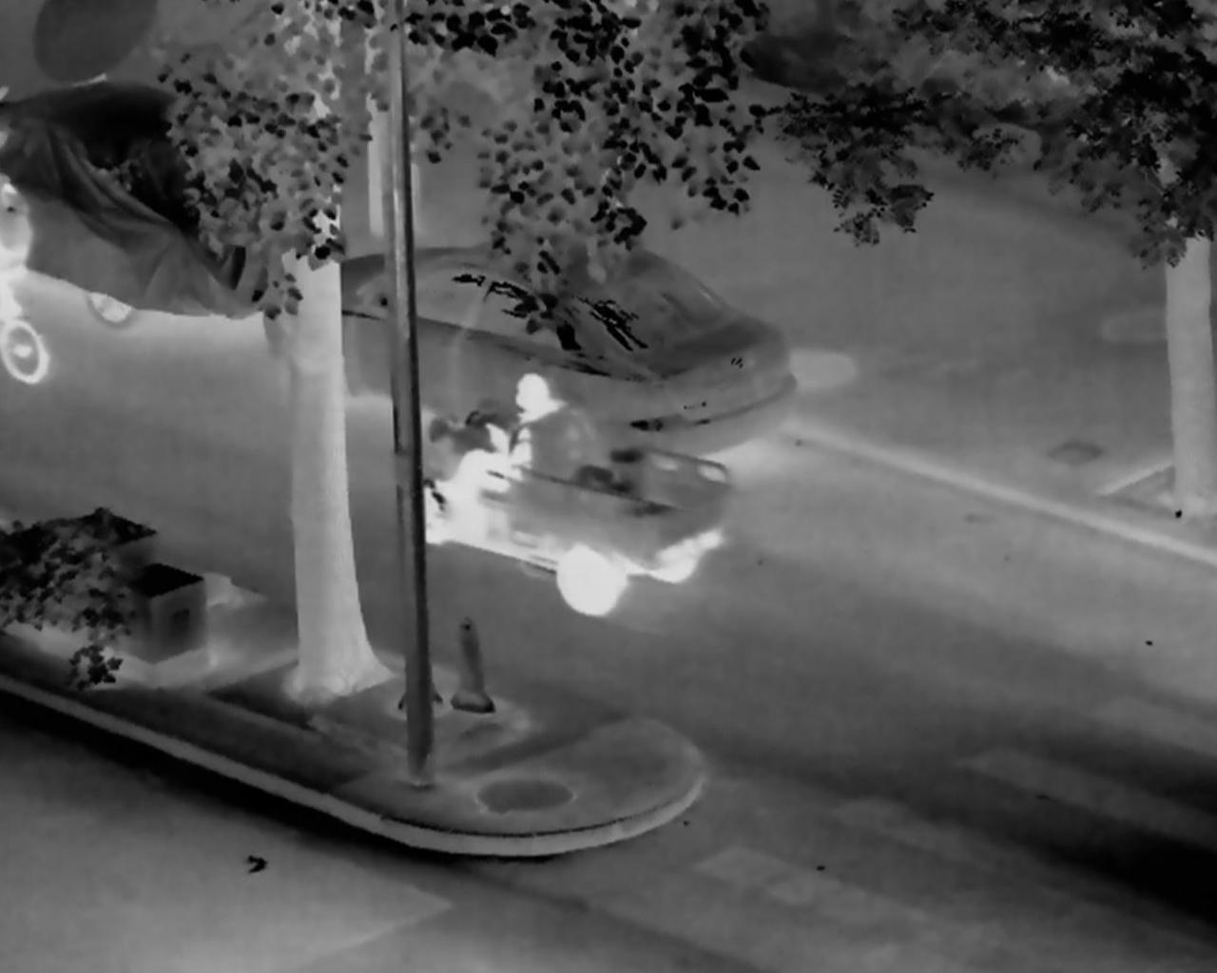person: (445, 373, 569, 523)
